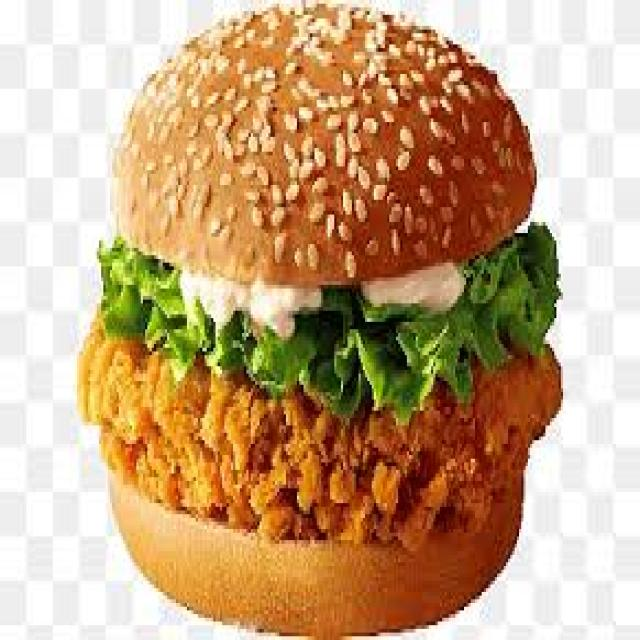햄버거: (79, 0, 563, 640)
